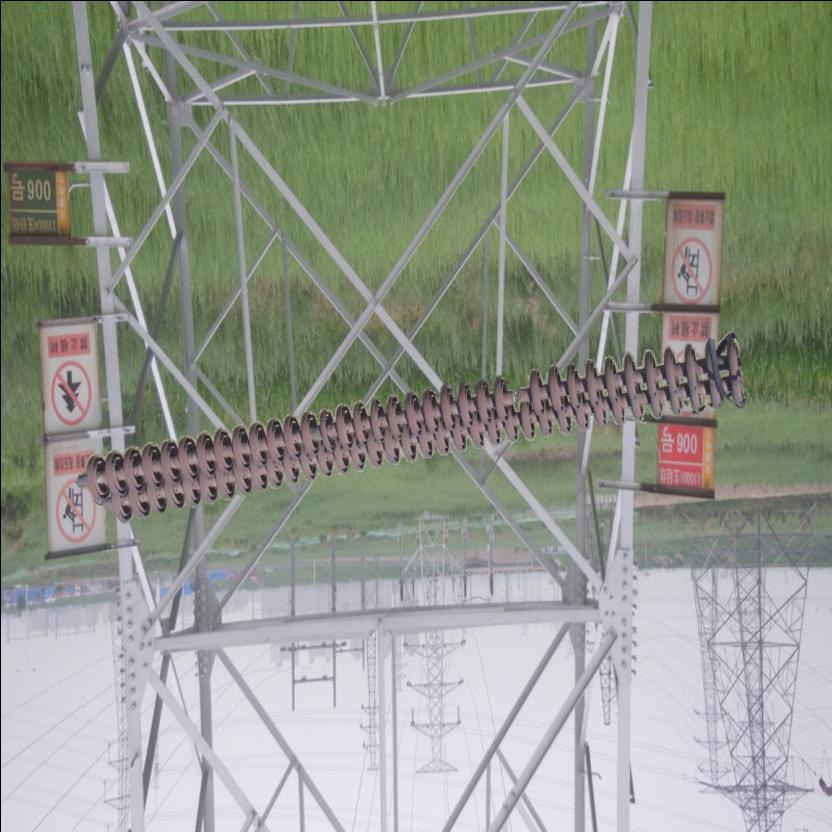defect: (490, 369, 548, 424)
